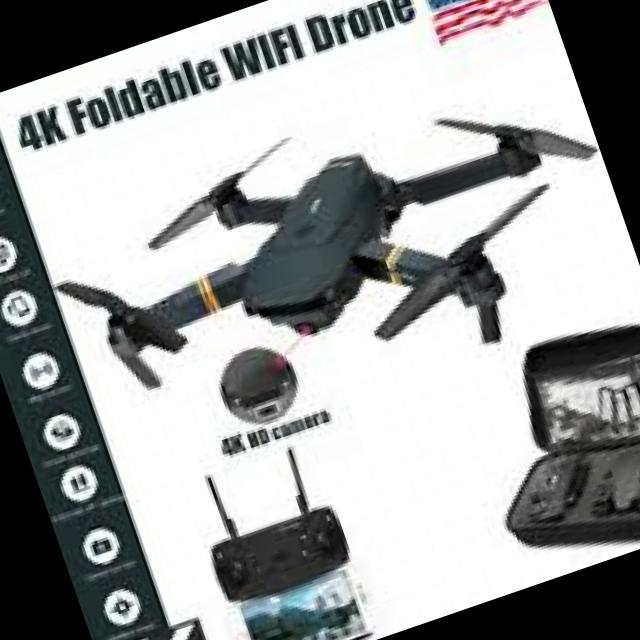drone: (35, 34, 640, 484)
